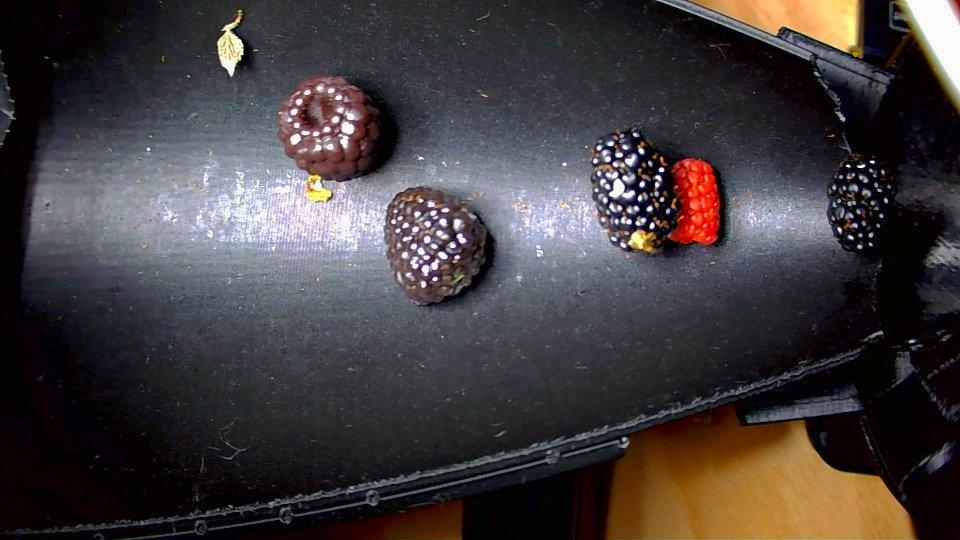berry: (384, 187, 486, 304), (591, 125, 680, 252), (277, 73, 379, 181), (827, 154, 898, 253), (668, 158, 721, 243)
